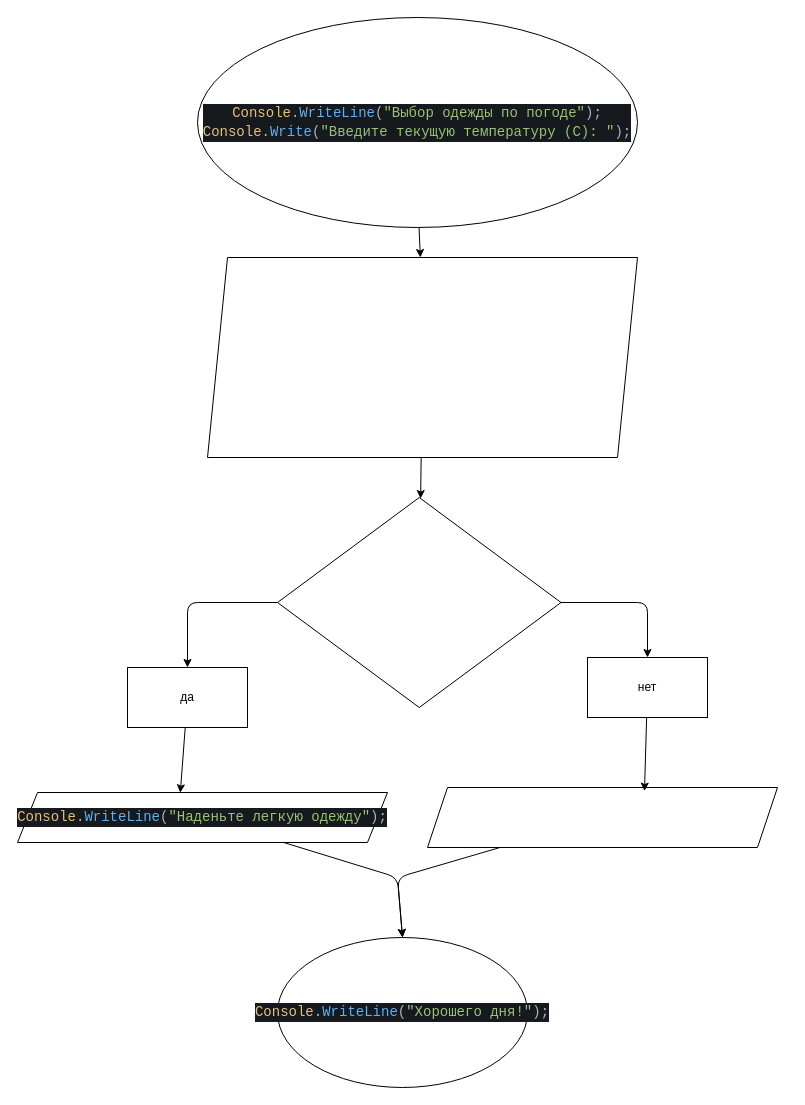
The diagram is 805 pixels wide and 1105 high, and some of its shapes have lost their labels. Here are the shapes that lost their labels. From the top down, the centre of each, then its label:
pixel 422 357: int temperature = Convert . ToInt32 ( Console . ReadLine ());
pixel 418 602: if ( temperature >= 20 )
pixel 602 817: Console . WriteLine ( "Наденьте тёплую одежду" );
